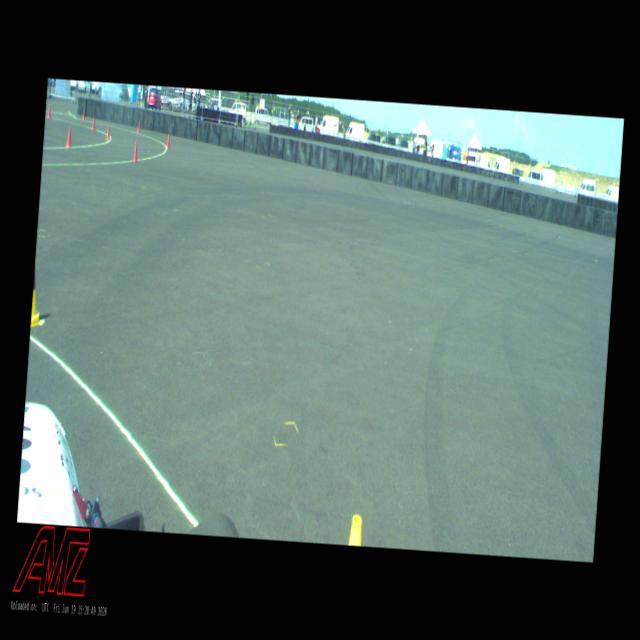unknown_cone: (132, 139, 140, 162), (65, 126, 72, 147), (105, 123, 110, 140), (166, 133, 170, 150), (91, 115, 95, 129), (47, 105, 51, 118), (137, 120, 140, 134), (82, 108, 85, 120)
yellow_cone: (30, 260, 46, 328)
